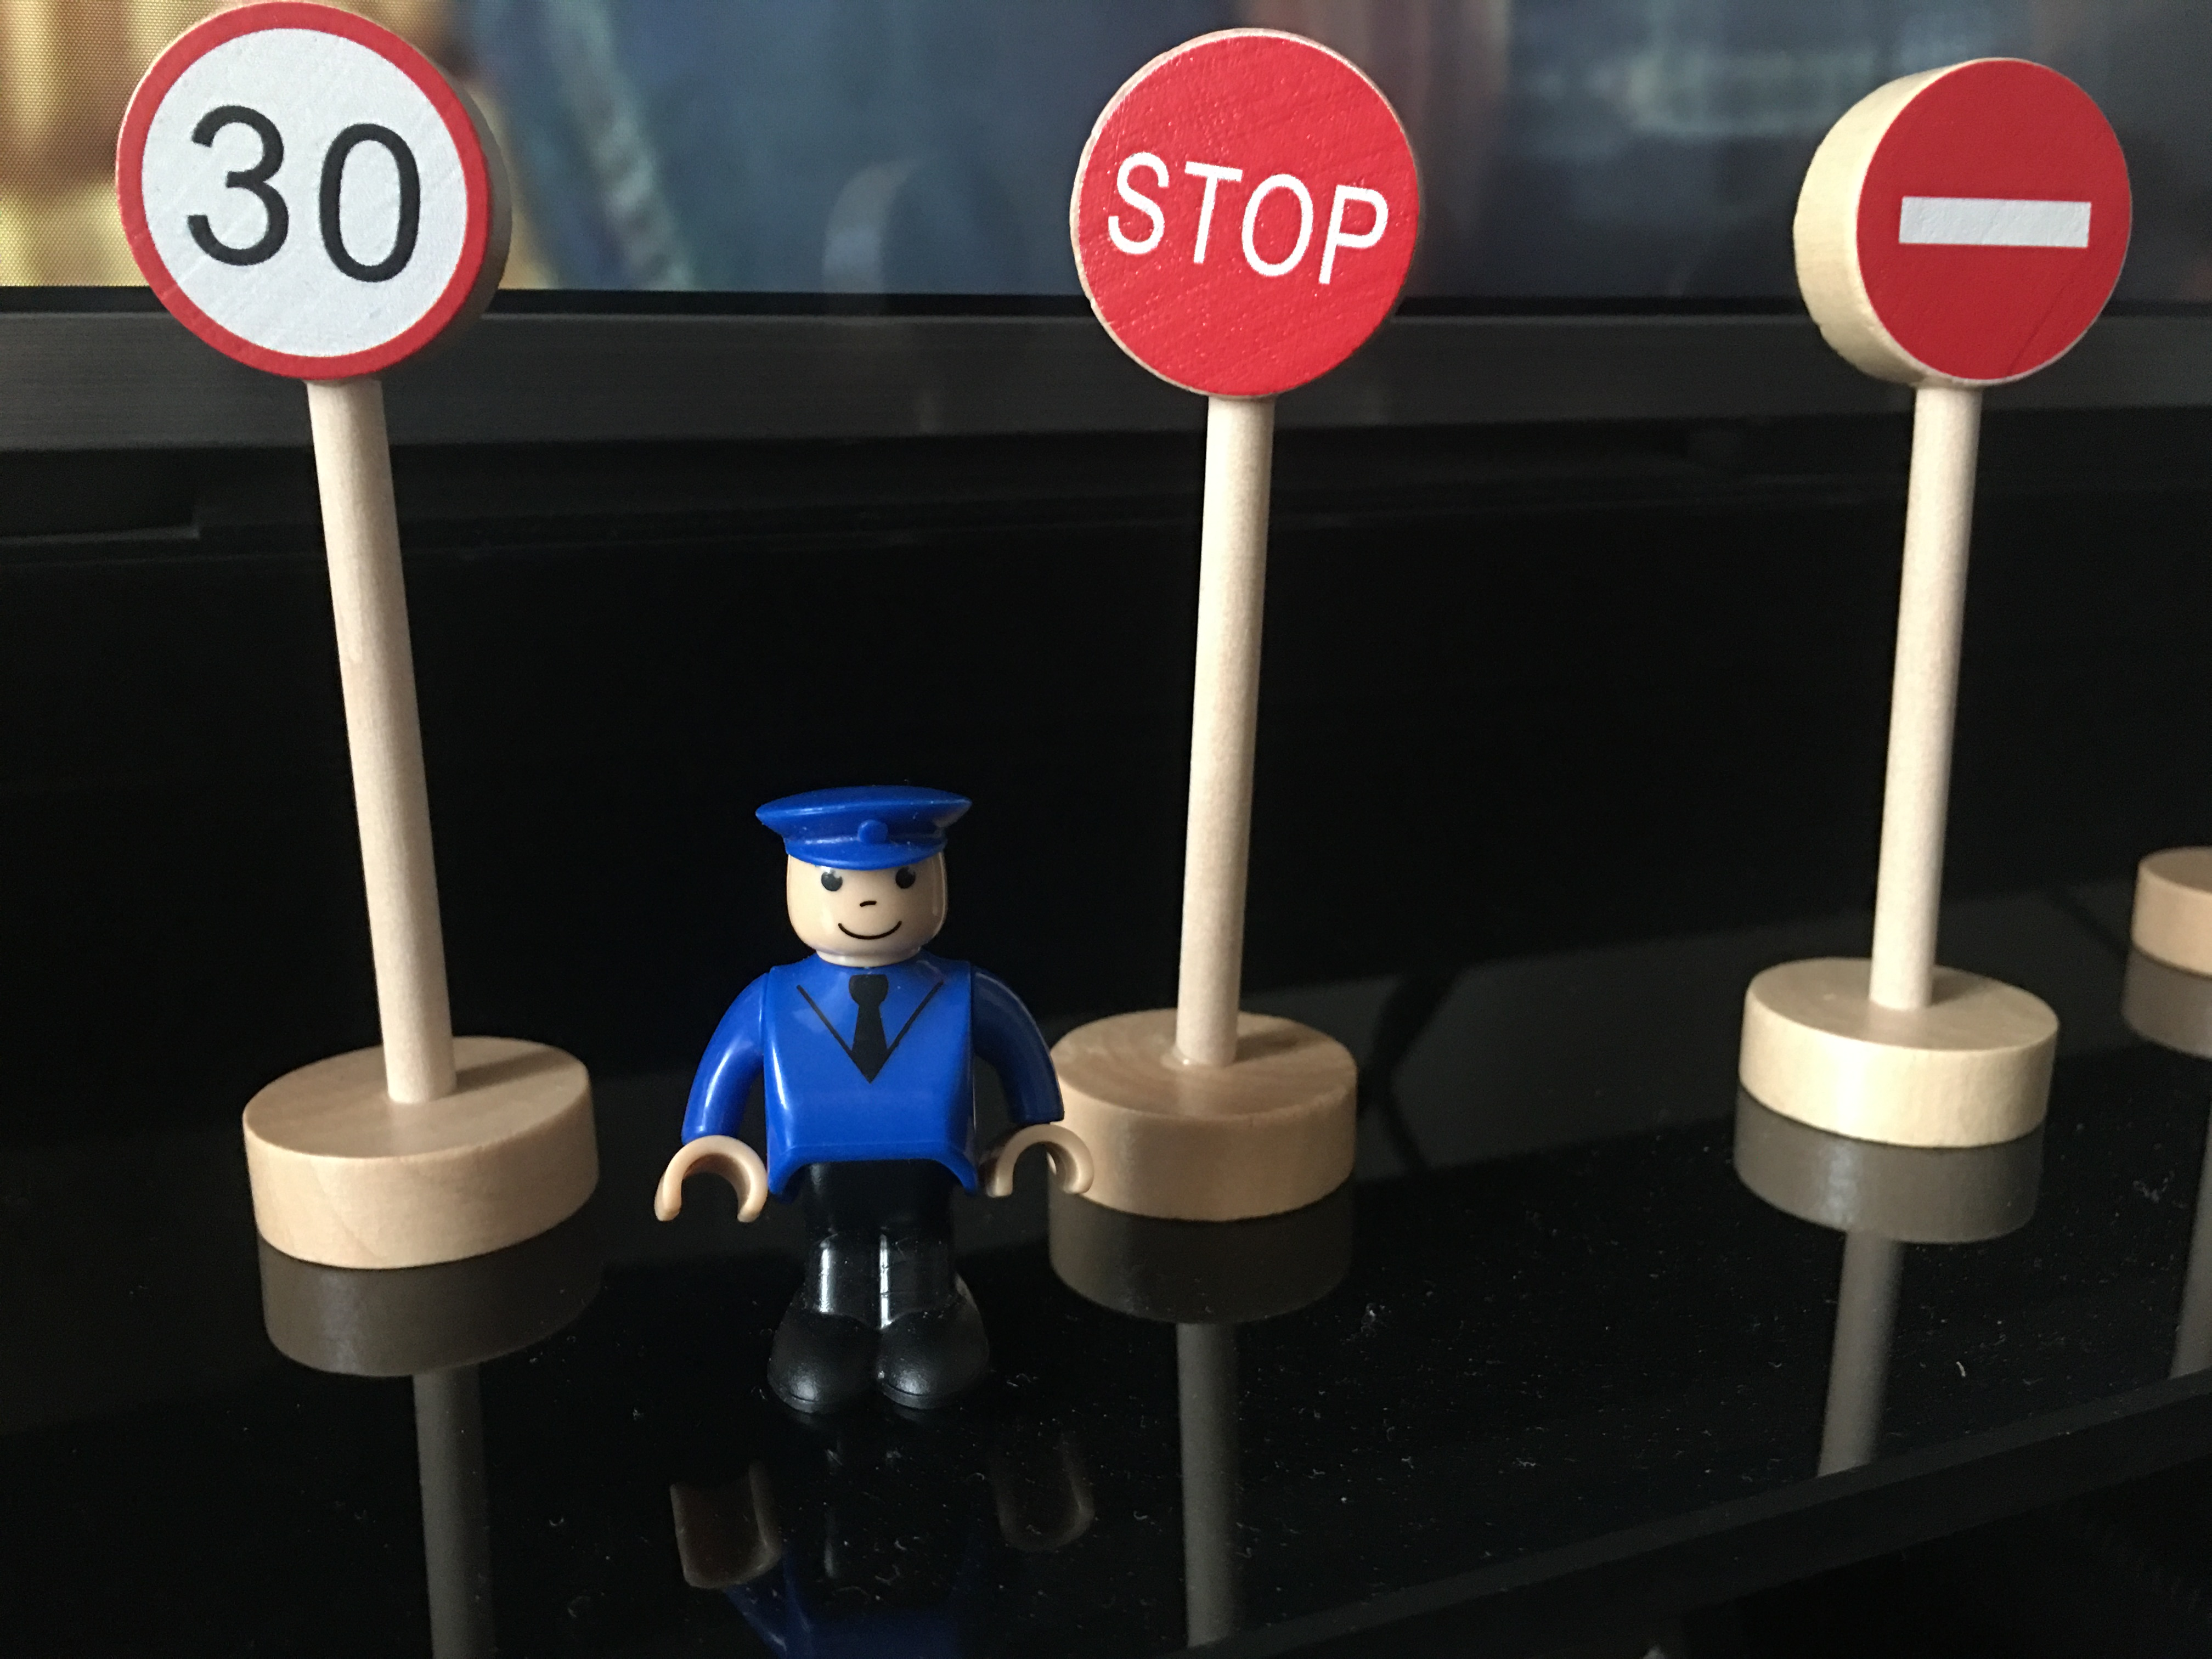Traffic_Sign_30: (129, 2, 506, 389)
Traffic_Sign_No_Entry: (1855, 57, 2130, 380)
Traffic_Sign_Stop: (1072, 29, 1425, 397)
person: (644, 768, 1122, 1440)
